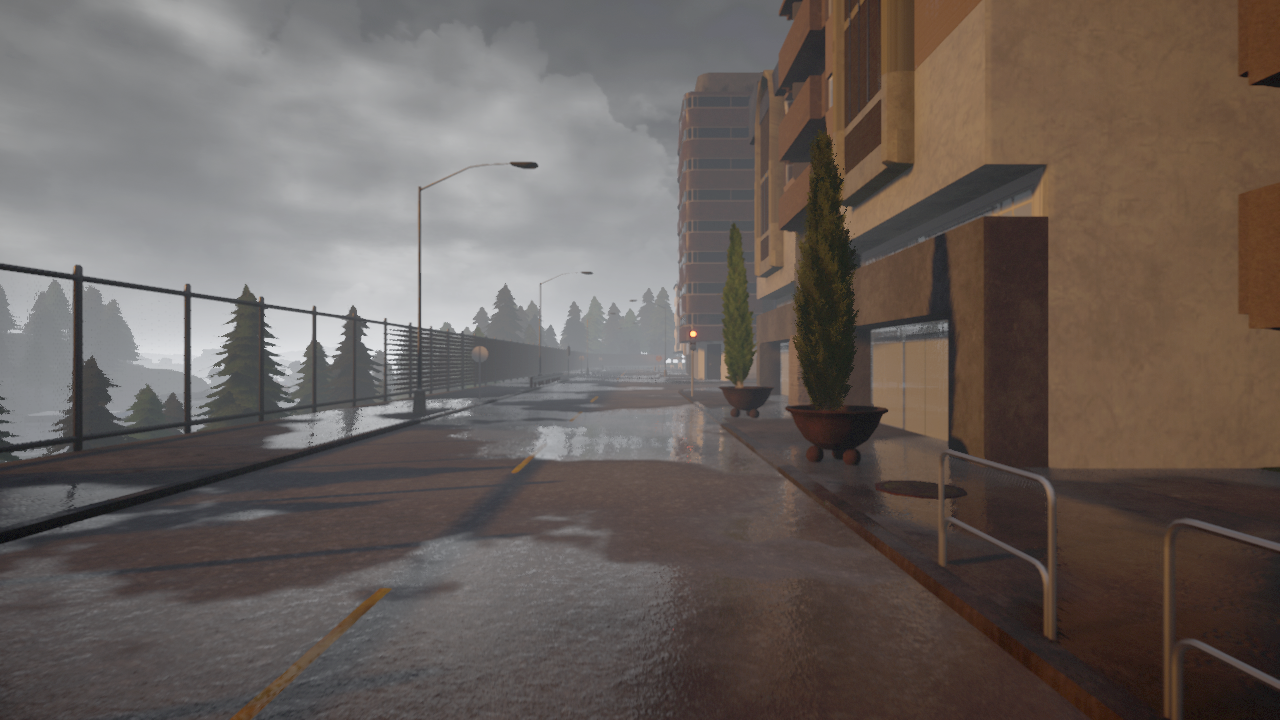red: (688, 330, 698, 352)
